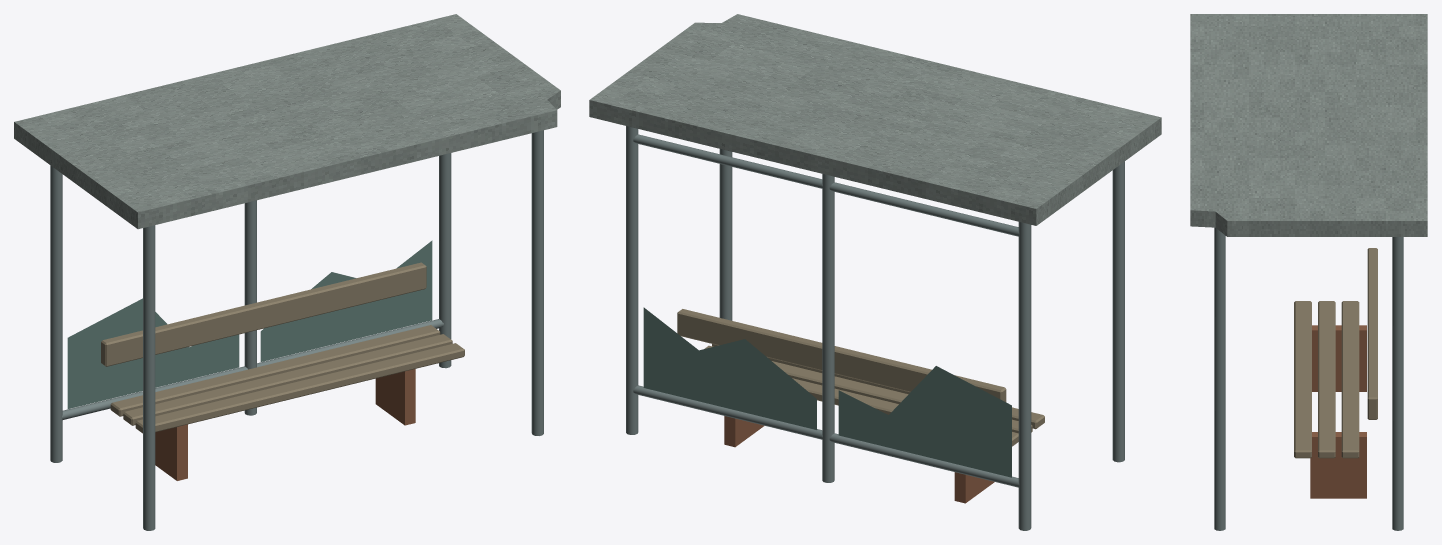
Rendered from 012_ruined_bus_shelter.glb.
3 views of the same model, side by side, from view 1: azimuth 30°, elevation 25°; view 2: azimuth 150°, elevation 25°; view 3: azimuth 270°, elevation 25° (orthographic). The views are drawn at different scales.
Parts seen in each view (by area): view 1: Shelter_chipped_roof, PRP-012_seat, PRP-012_posts, PRP-012_glass_remnants, PRP-012_seat_frame, PRP-012_frame; view 2: Shelter_chipped_roof, PRP-012_glass_remnants, PRP-012_posts, PRP-012_seat, PRP-012_frame, PRP-012_seat_frame; view 3: Shelter_chipped_roof, PRP-012_seat, PRP-012_posts, PRP-012_seat_frame.
Boxes of the visible parts, left/top/right/bottom form: Shelter_chipped_roof: left=14, top=14, right=560, bottom=229; PRP-012_seat: left=101, top=262, right=464, bottom=433; PRP-012_posts: left=50, top=130, right=543, bottom=530; PRP-012_glass_remnants: left=67, top=240, right=432, bottom=408; PRP-012_seat_frame: left=155, top=369, right=415, bottom=480; PRP-012_frame: left=62, top=319, right=443, bottom=419; Shelter_chipped_roof: left=589, top=14, right=1161, bottom=225; PRP-012_glass_remnants: left=643, top=307, right=1011, bottom=477; PRP-012_posts: left=626, top=126, right=1124, bottom=530; PRP-012_seat: left=677, top=309, right=1044, bottom=446; PRP-012_frame: left=633, top=134, right=1019, bottom=487; PRP-012_seat_frame: left=724, top=416, right=994, bottom=503; Shelter_chipped_roof: left=1190, top=14, right=1427, bottom=236; PRP-012_seat: left=1294, top=248, right=1377, bottom=458; PRP-012_posts: left=1214, top=227, right=1403, bottom=530; PRP-012_seat_frame: left=1310, top=325, right=1366, bottom=498.
Bounding box in the file's own units: 3.3 × 2.42 × 1.6.
5 materials, 1 textured.
